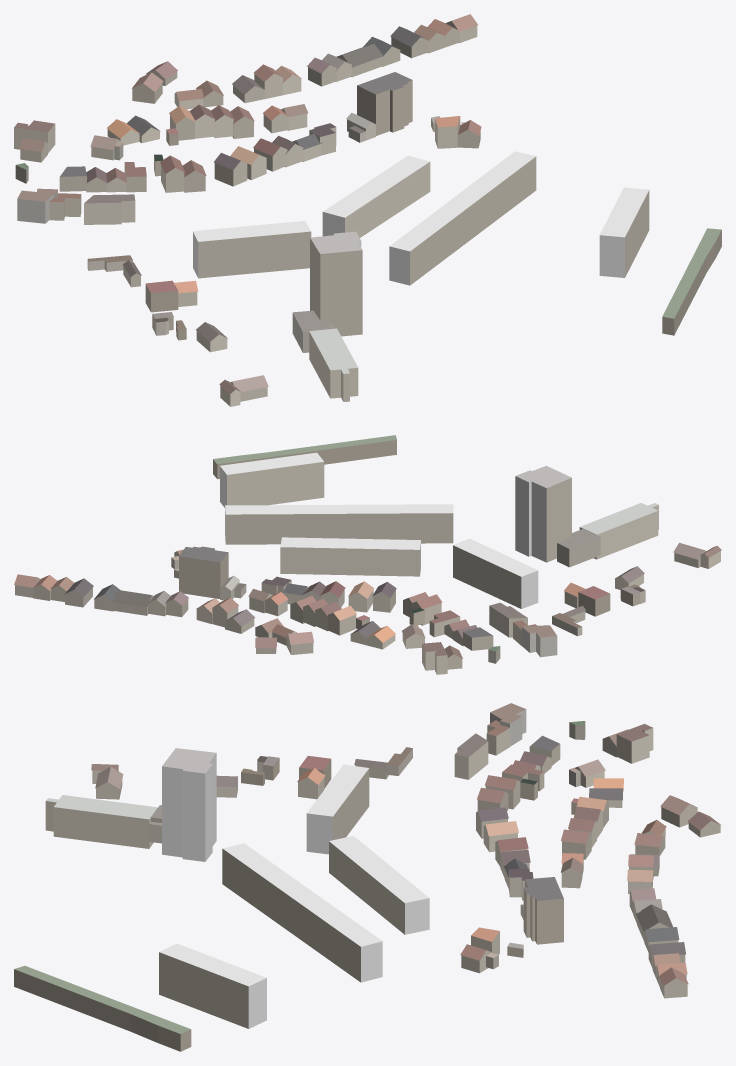
3 renders of one model, top to bottom at view 1: azimuth 30°, elevation 25°; view 2: azimuth 150°, elevation 25°; view 3: azimuth 270°, elevation 25°, orthographic. The views are drawn at different scales.
Visible parts, largest first — view 1: tuile; view 2: tuile; view 3: tuile.
Part boxes in pixels (x1,y1,x2,y2): tuile: (14, 14, 721, 406); tuile: (14, 435, 721, 674); tuile: (14, 703, 721, 1051).
Bounding box in the file's own units: 267 × 43.95 × 285.
